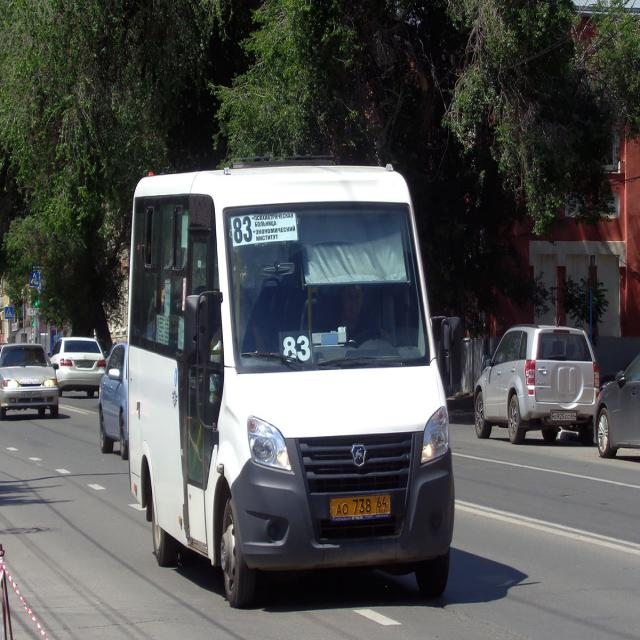number-of-bus: (282, 332, 313, 365), (230, 211, 255, 249)
